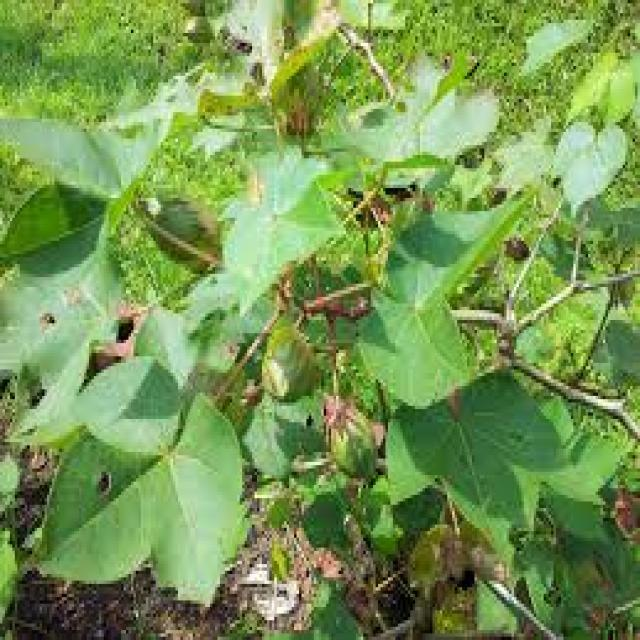Healthy Leaf: (2, 4, 640, 634)
